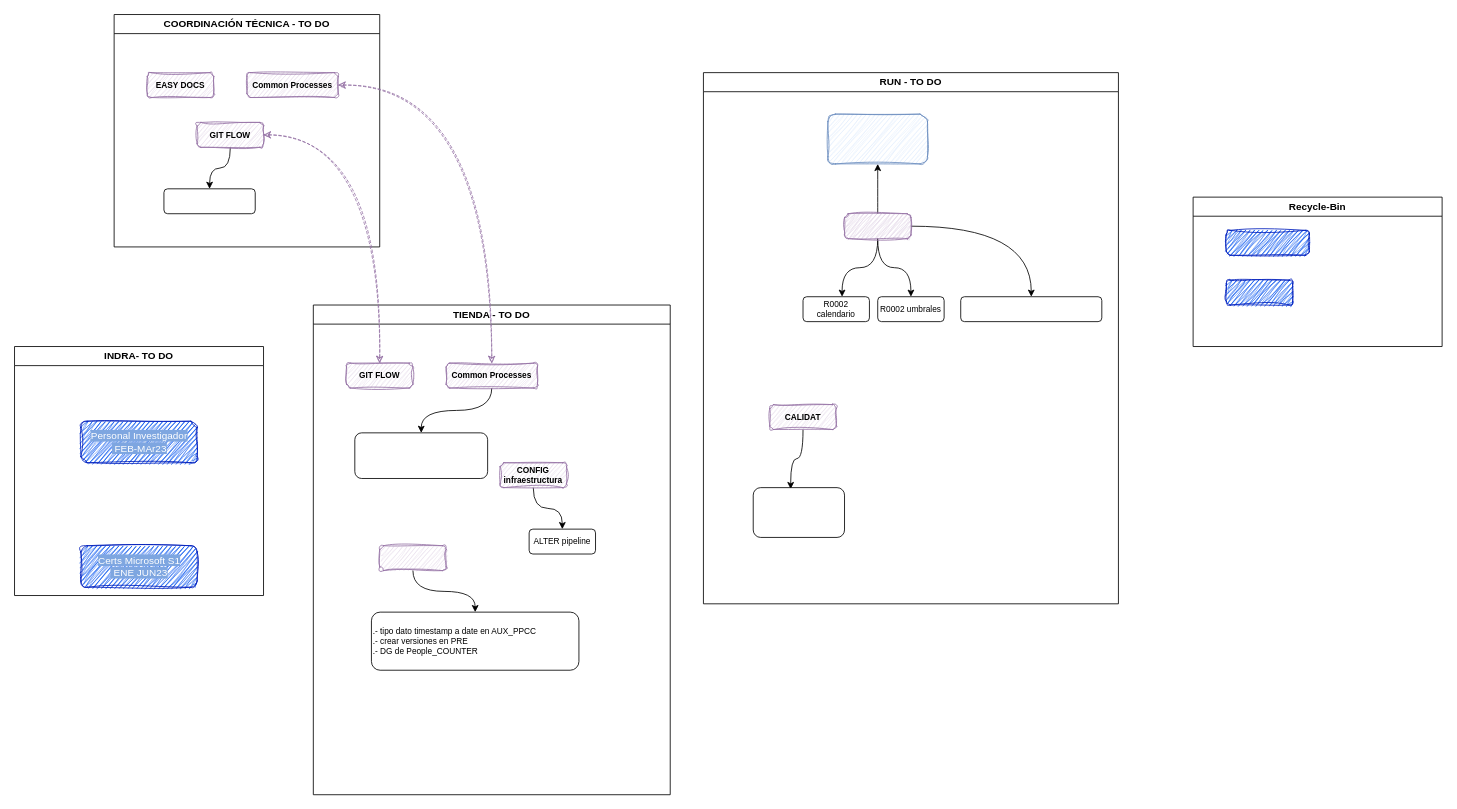
This 1457x809 diagram has some shape labels left out. The centre of each missing label's shape, as x and y in pixels:
"calidat-974 .- FIX aux_mmtt .- Eliminar facts .- Añadir check aggr promo" belongs at pixel 798 512.
"COUNTER" belongs at pixel 412 558.
"Establecer método de trabajo estándar" belongs at pixel 209 201.
"Formación Power Platform" belongs at pixel 877 138.
"Horas INDRA MAR23" belongs at pixel 1267 242.
"Horas ITX" belongs at pixel 1259 292.
"LISTADO grupo tienda R0003 Manu Liste" belongs at pixel 1031 309.
"PBIs" belongs at pixel 877 226.
"Probar carga incremental .- T_AUX_PPCC_INC .- T_FACT_PEOPLE_COUNTER_INC" belongs at pixel 421 455.
